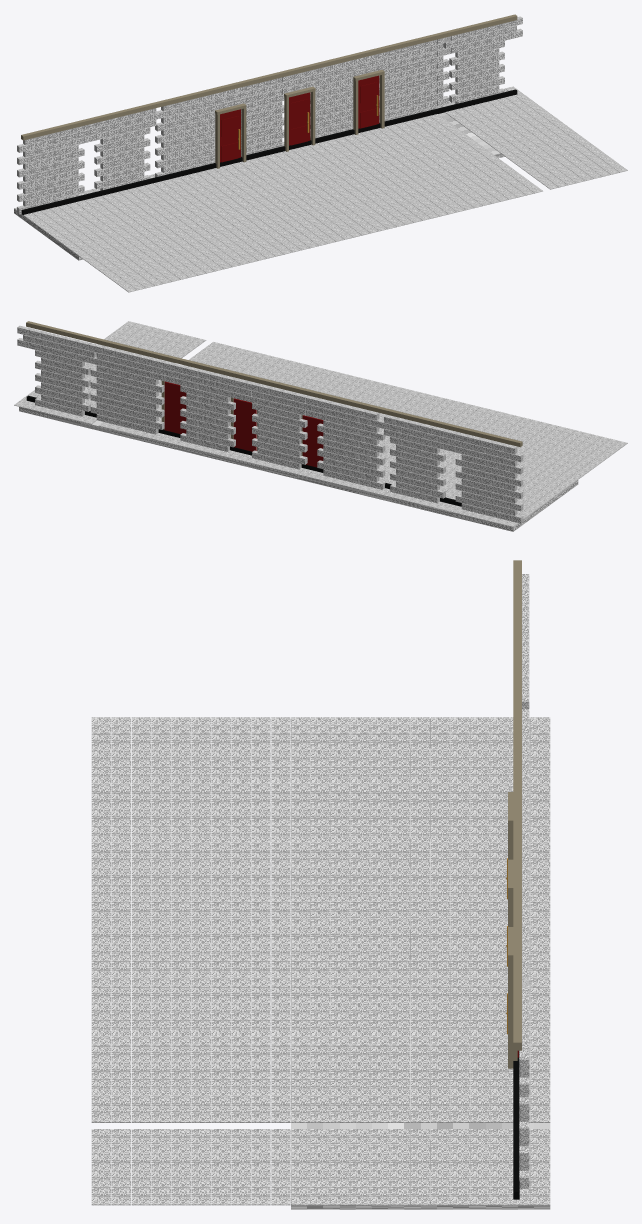
The model's file is corridor.obj.
The picture shows the model from 3 angles, top to bottom: view 1: azimuth 30°, elevation 25°; view 2: azimuth 150°, elevation 25°; view 3: azimuth 270°, elevation 25°; orthographic projection. The views are drawn at different scales.
Visible parts, largest first — view 1: Upper_cornice, Wall_baseboard, Corridor_foundation, Door_leaf.001, Door_leaf.002, Door_leaf; view 2: Upper_cornice, Corridor_foundation, Door_leaf.001, Door_leaf.002, Door_leaf, Wall_baseboard; view 3: Corridor_foundation, Upper_cornice, Wall_baseboard.
Boxes of the visible parts, x1,y1,x2,y2 form: Upper_cornice: (21, 14, 517, 140); Wall_baseboard: (21, 89, 517, 214); Corridor_foundation: (14, 112, 504, 260); Door_leaf.001: (289, 92, 310, 145); Door_leaf.002: (358, 75, 379, 128); Door_leaf: (220, 109, 240, 162); Upper_cornice: (26, 321, 522, 447); Corridor_foundation: (19, 380, 578, 531); Door_leaf.001: (233, 398, 256, 451); Door_leaf.002: (164, 381, 186, 433); Door_leaf: (302, 415, 323, 467); Wall_baseboard: (26, 395, 461, 506); Corridor_foundation: (291, 718, 550, 1209); Upper_cornice: (513, 560, 521, 1050); Wall_baseboard: (513, 1051, 519, 1199).
Size of the model in its own units: 29.15 by 4.62 by 11.5.
